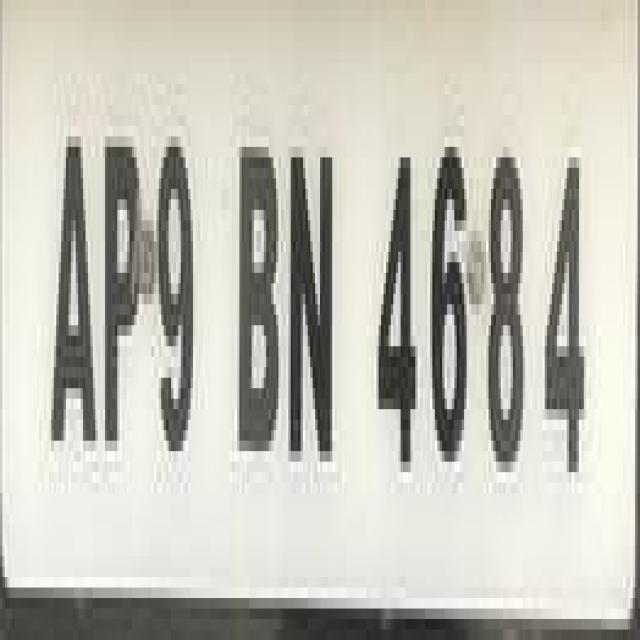plate: (2, 10, 608, 640)
